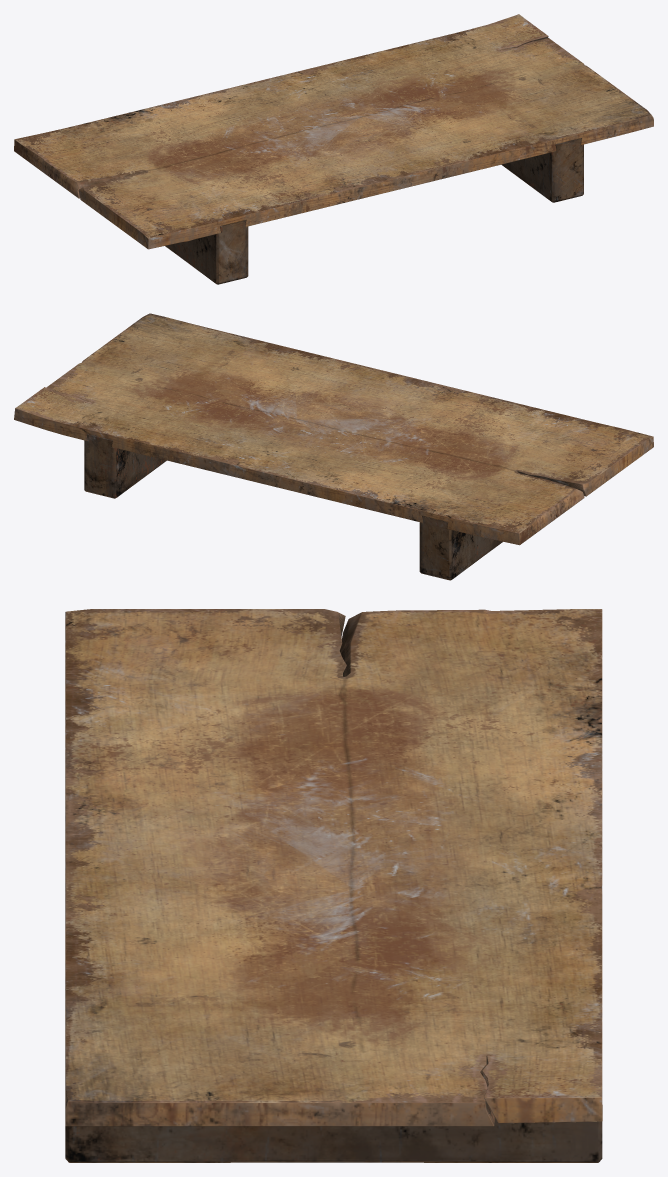
File: SM_ChoppingBoard.fbx
The picture shows the model from 3 angles, top to bottom: view 1: azimuth 30°, elevation 25°; view 2: azimuth 150°, elevation 25°; view 3: azimuth 270°, elevation 25°; orthographic projection. The views are drawn at different scales.
Visible parts, largest first — view 1: SM_ChoppingBoard; view 2: SM_ChoppingBoard; view 3: SM_ChoppingBoard.
Boxes of the visible parts, left/top/right/bottom form: SM_ChoppingBoard: left=14, top=14, right=653, bottom=284; SM_ChoppingBoard: left=14, top=313, right=653, bottom=580; SM_ChoppingBoard: left=65, top=609, right=602, bottom=1162.
Size of the model in its own units: 150 by 19.04 by 69.03.
Materials: 1 (1 with a texture image).
